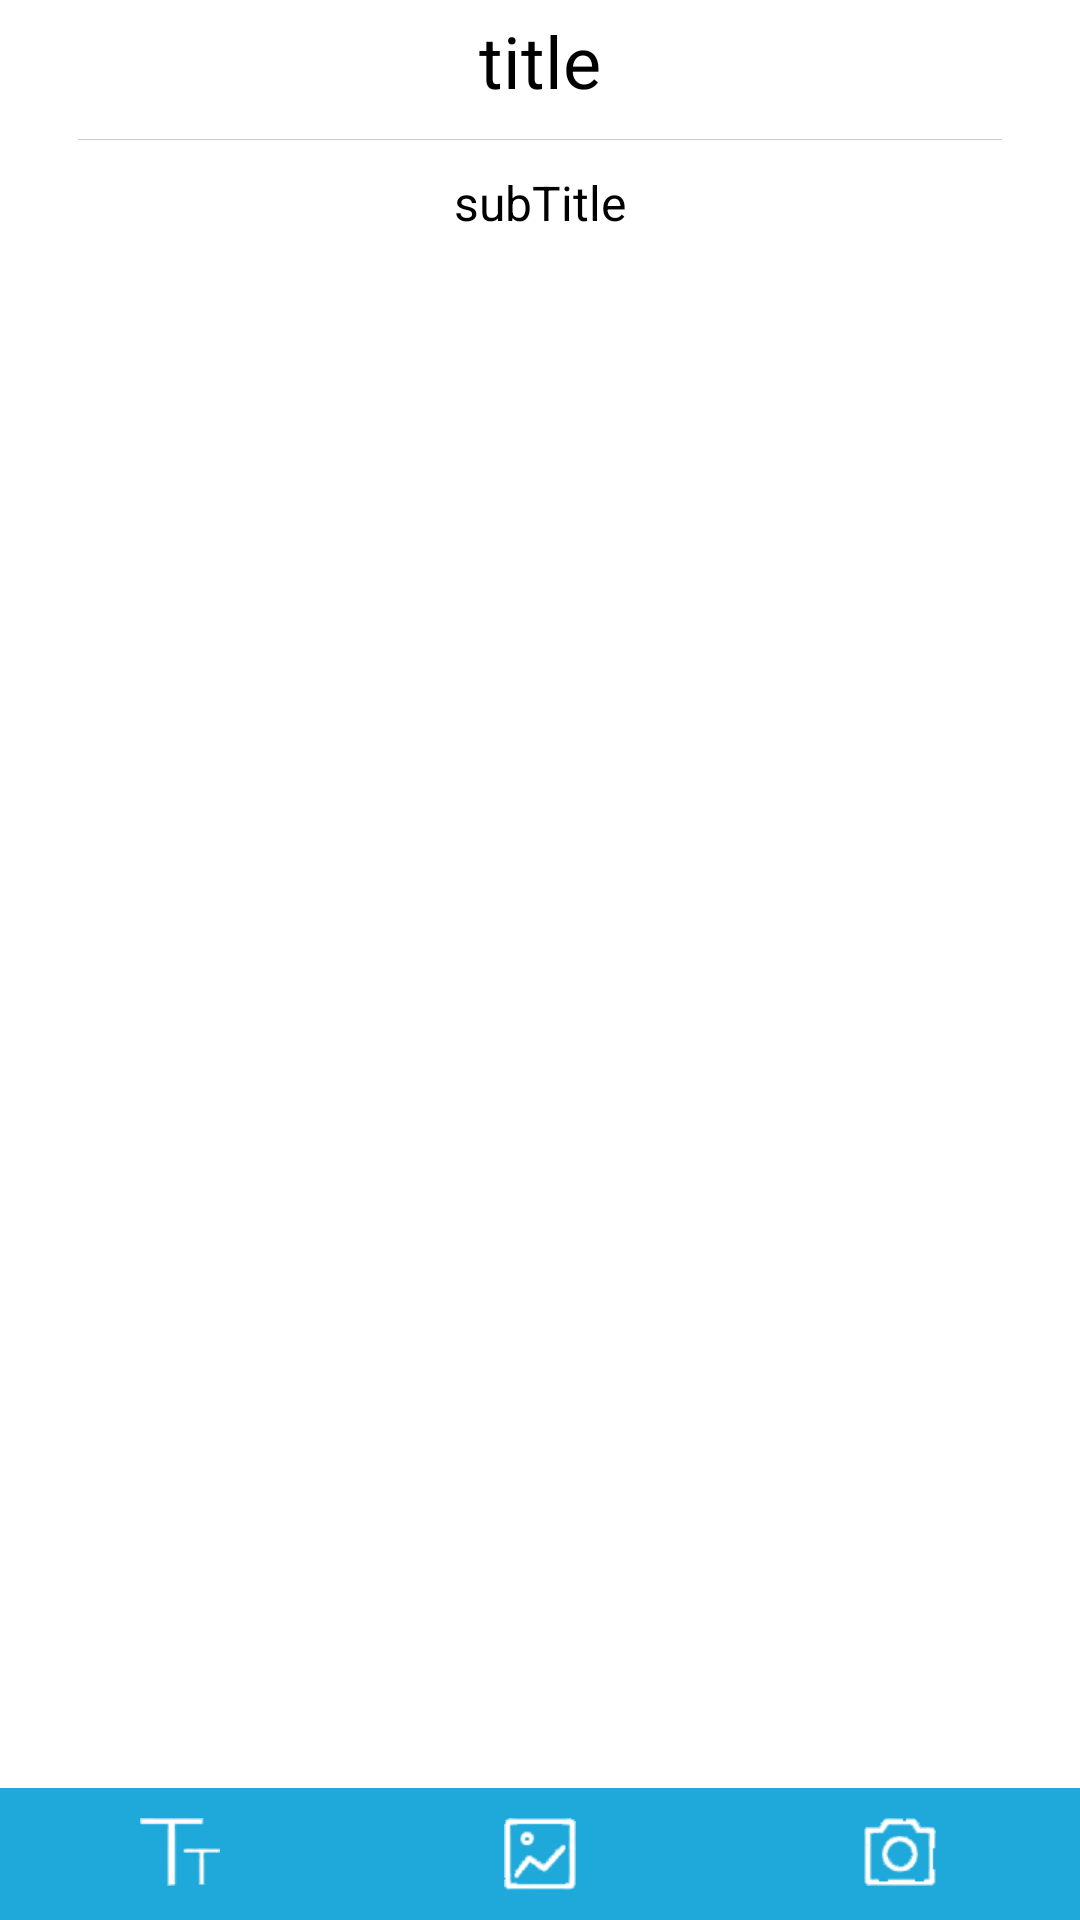

Point at icon controls on the screen. Image size 1080*1920, points as point (x, y).
miniweb camera: point (900, 1852)
miniweb local: point (540, 1854)
miniweb text: point (180, 1852)
